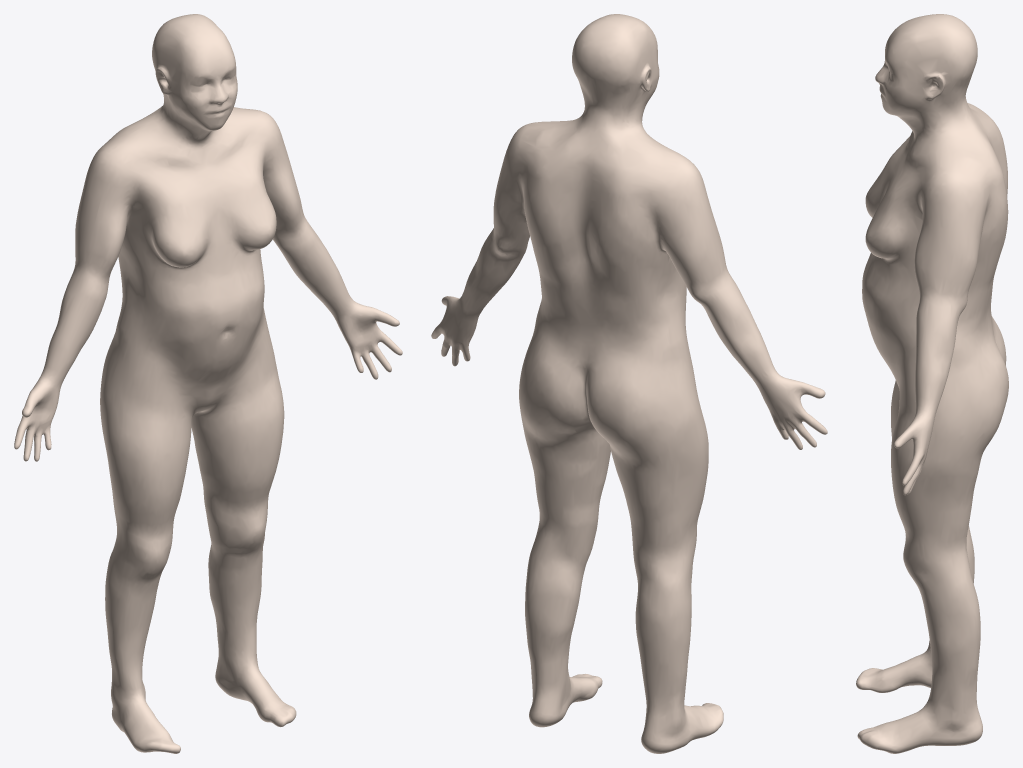
File: cuerpo-f-piel.glb
3 renders of one model, left to right at view 1: azimuth 30°, elevation 25°; view 2: azimuth 150°, elevation 25°; view 3: azimuth 270°, elevation 25°, orthographic.
Visible parts, largest first — view 1: piel; view 2: piel; view 3: piel.
Boxes of the visible parts, bbox=[...] form: piel: bbox=[14, 14, 402, 753]; piel: bbox=[431, 14, 827, 753]; piel: bbox=[856, 14, 1008, 753].
Size of the model in its own units: 0.9616 by 1.66 by 0.327.
